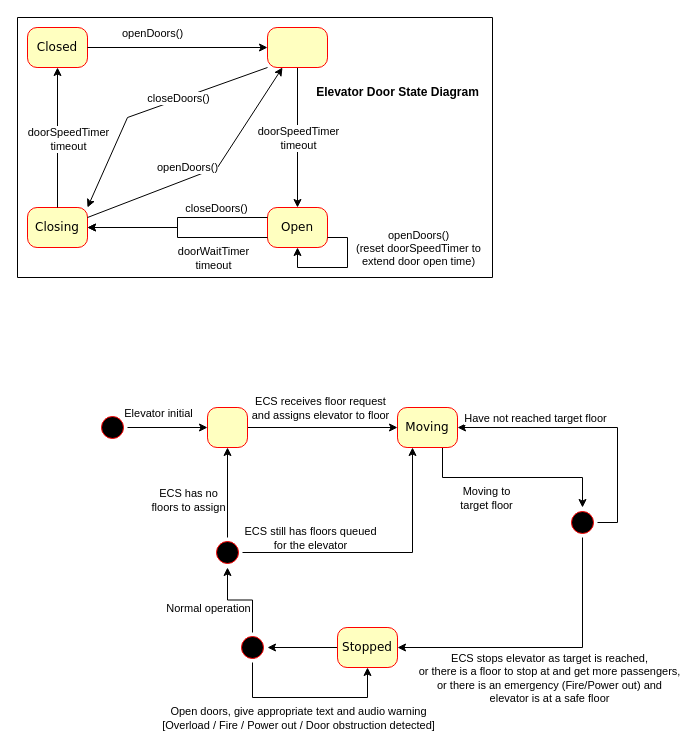
Some shapes in this 697 by 748 pixel diagram are drawn without their labels. Here are the shapes that lost their labels. From the top down, the box of each, then its label:
(266, 26, 328, 68): Opening
(206, 406, 248, 448): Idle
